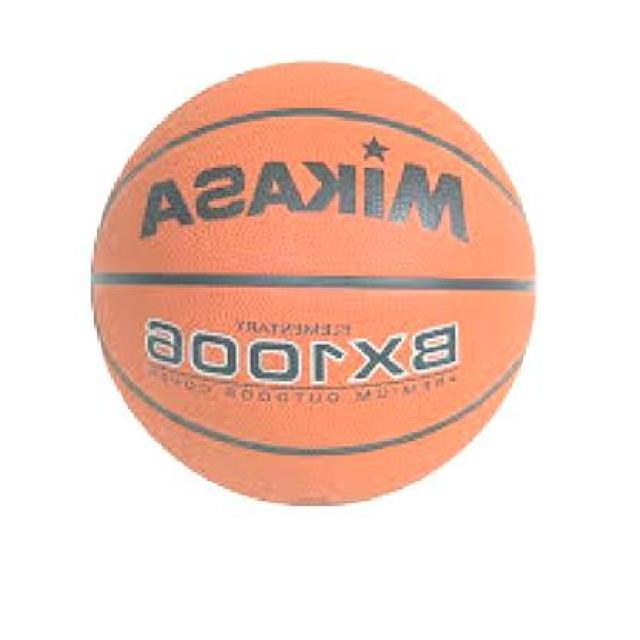Ball: (92, 65, 537, 506)
